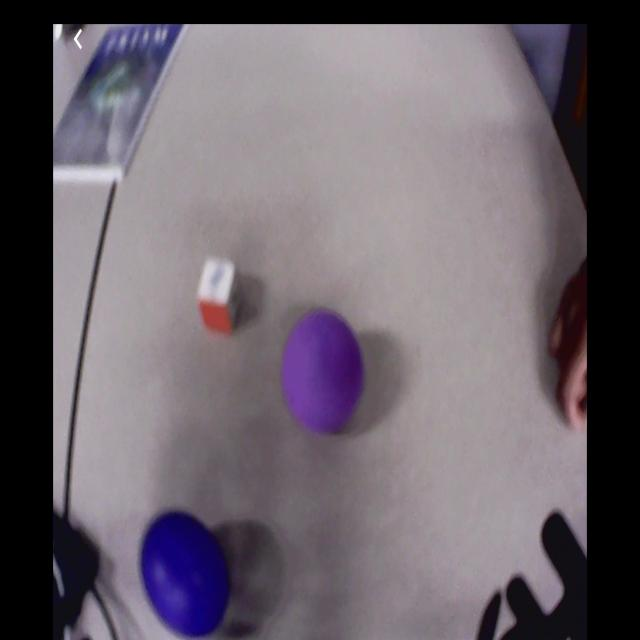ball: (141, 513, 225, 639), (282, 310, 364, 431)
